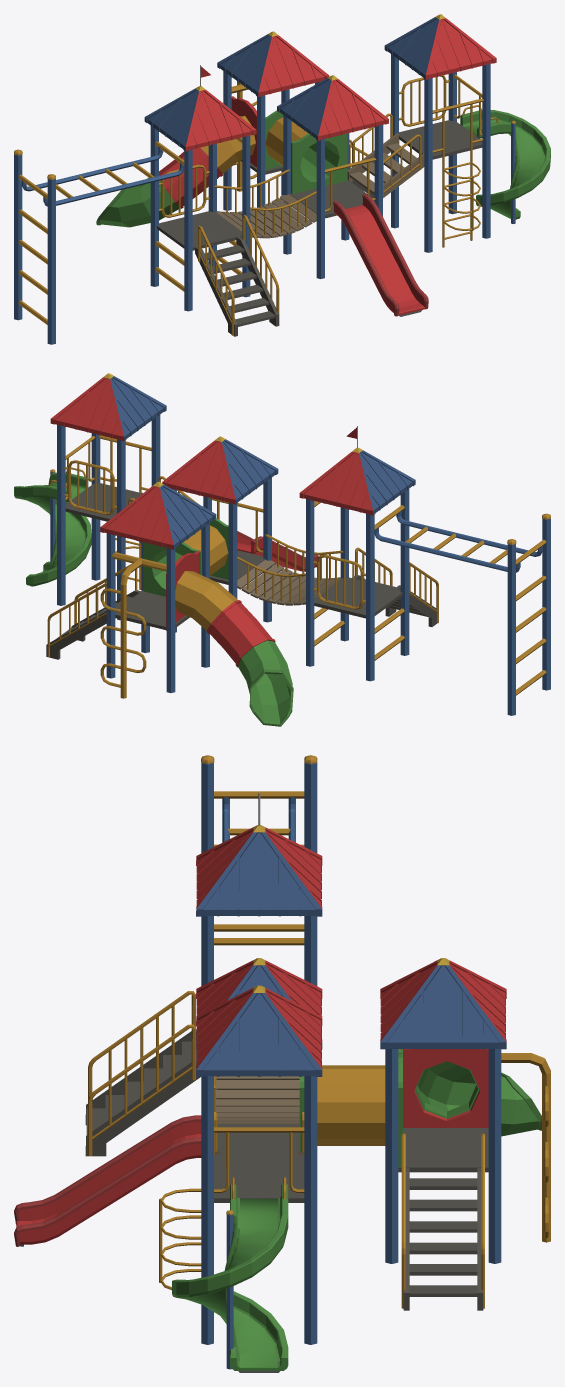
The model's file is SM_Props_City_PlayGround_Equipment_Preset.fbx.
3 views of the same model, one above another, from view 1: azimuth 30°, elevation 25°; view 2: azimuth 150°, elevation 25°; view 3: azimuth 270°, elevation 25° (orthographic). The views are drawn at different scales.
Parts seen in each view (by area): view 1: SM_Props_City_PlayGround_Equipment_Preset; view 2: SM_Props_City_PlayGround_Equipment_Preset; view 3: SM_Props_City_PlayGround_Equipment_Preset.
Part boxes in pixels (x1,y1,x2,y2): SM_Props_City_PlayGround_Equipment_Preset: (14,14,550,344); SM_Props_City_PlayGround_Equipment_Preset: (14,373,550,726); SM_Props_City_PlayGround_Equipment_Preset: (14,755,550,1372).
Size of the model in its own units: 1222 by 521 by 729.
